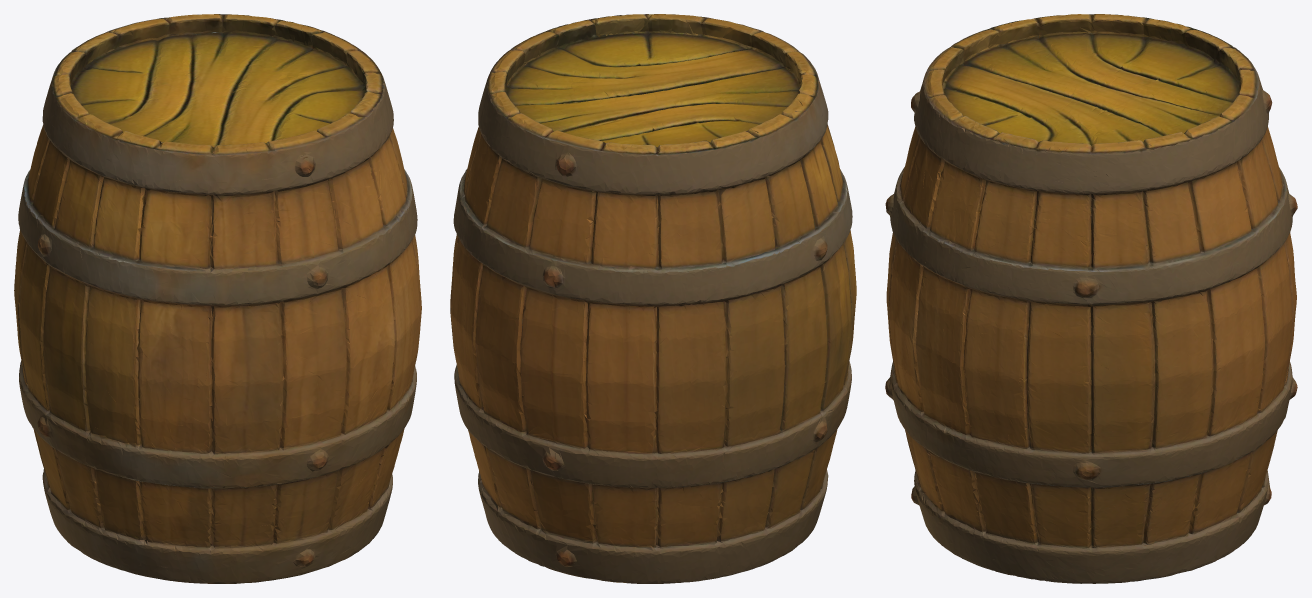
Rendered from prop-barrel.glb.
The picture shows the model from 3 angles, left to right: view 1: azimuth 30°, elevation 25°; view 2: azimuth 150°, elevation 25°; view 3: azimuth 270°, elevation 25°; orthographic projection.
Visible parts, largest first — view 1: geometry_0; view 2: geometry_0; view 3: geometry_0.
Boxes of the visible parts, x1=… form: geometry_0: x1=14, y1=14, x2=421, y2=583; geometry_0: x1=450, y1=14, x2=856, y2=583; geometry_0: x1=885, y1=14, x2=1297, y2=583.
Bounding box in the file's own units: 1.69 × 2 × 1.71.
Materials: 1 (1 with a texture image).
